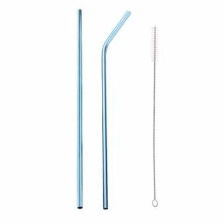drinking_straw: (96, 5, 135, 213), (72, 4, 87, 213)
